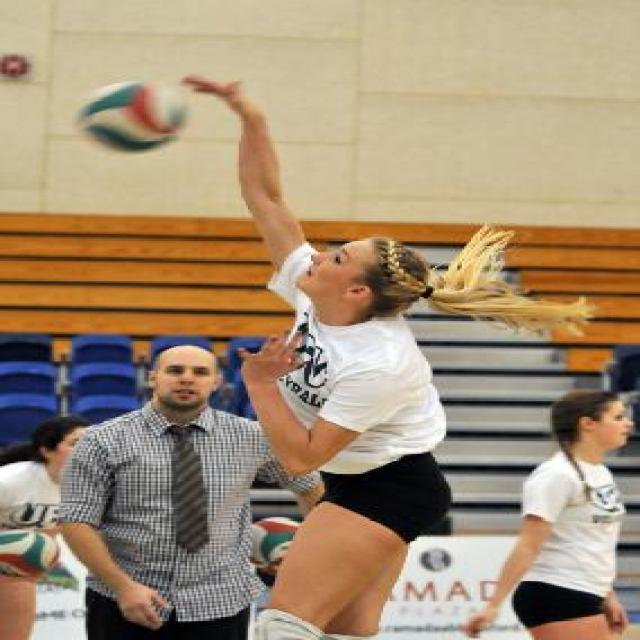volleyball: (74, 80, 185, 154)
